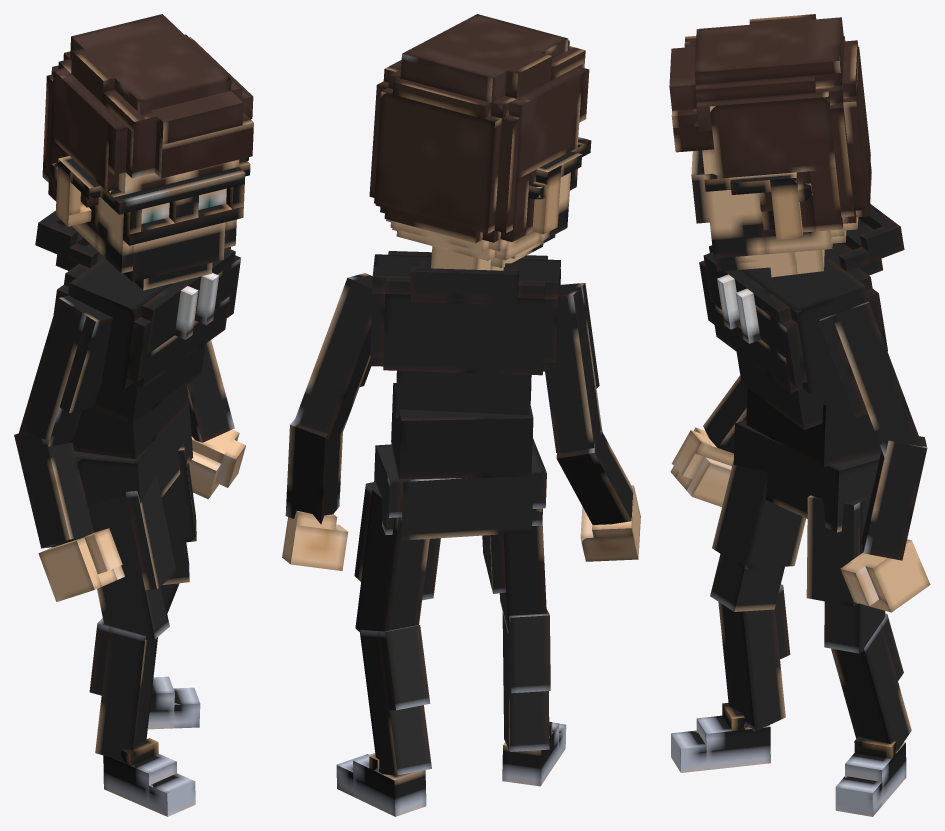
File: kristen.fbx
3 views of the same model, side by side, from view 1: azimuth 30°, elevation 25°; view 2: azimuth 150°, elevation 25°; view 3: azimuth 270°, elevation 25° (orthographic).
Visible parts, largest first — view 1: Kristen; view 2: Kristen; view 3: Kristen.
Boxes of the visible parts, x1,y1,x2,y2 form: Kristen: (14, 14, 253, 816); Kristen: (282, 14, 640, 816); Kristen: (669, 14, 930, 816).
Size of the model in its own units: 83.09 by 214 by 68.95.
